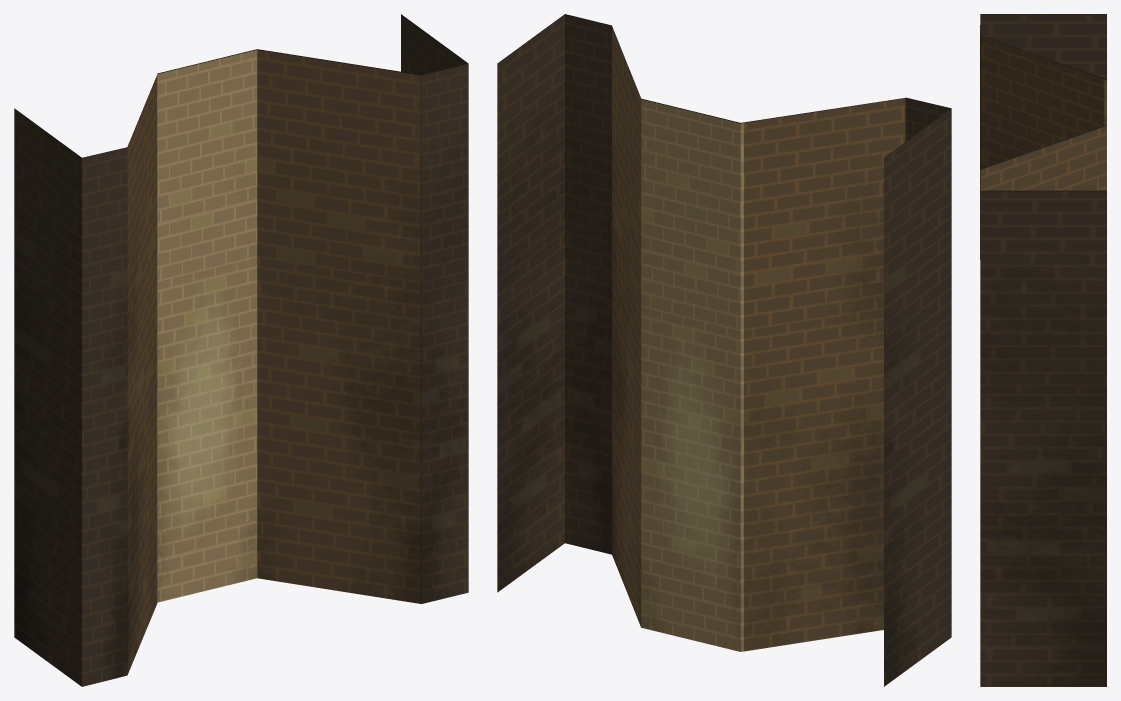
The model's file is wall.fbx.
3 views of the same model, side by side, from view 1: azimuth 30°, elevation 25°; view 2: azimuth 150°, elevation 25°; view 3: azimuth 270°, elevation 25° (orthographic). The views are drawn at different scales.
Parts seen in each view (by area): view 1: Wall; view 2: Wall; view 3: Wall.
Boxes of the visible parts, box(x1,y1,x2,y2) form: Wall: box(14, 14, 468, 686); Wall: box(497, 14, 951, 686); Wall: box(980, 14, 1106, 686).
Size of the model in its own units: 3588 by 4695 by 1087.
1 material, 1 textured.
